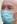with_mask: (1, 2, 17, 24)
